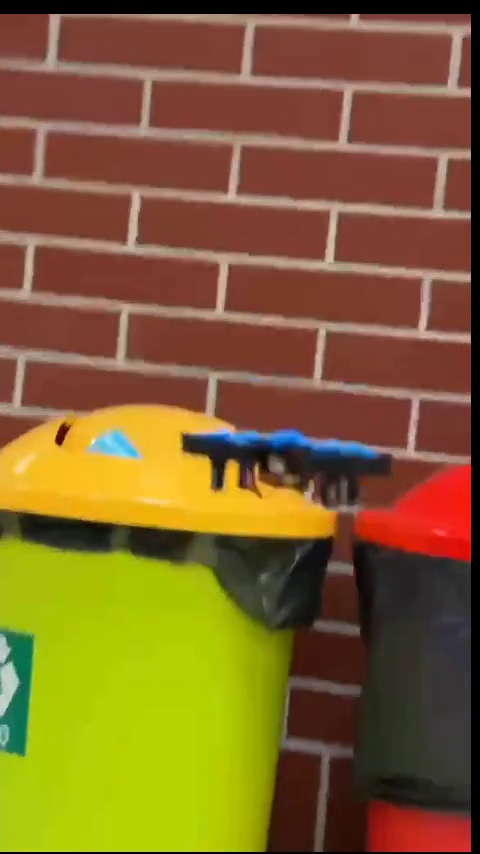drone: (186, 423, 389, 512)
